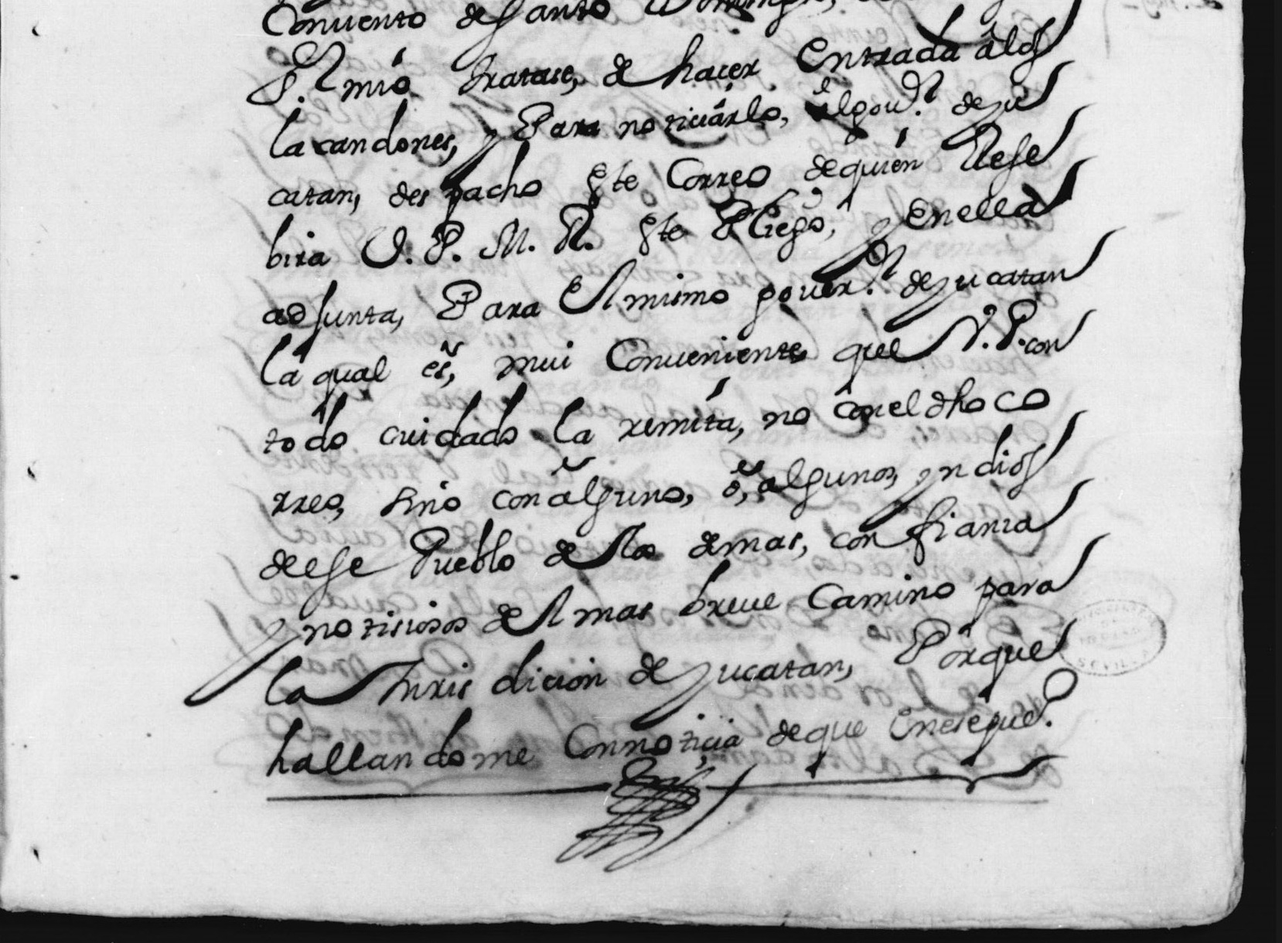lacandon: (269, 97, 455, 158)
